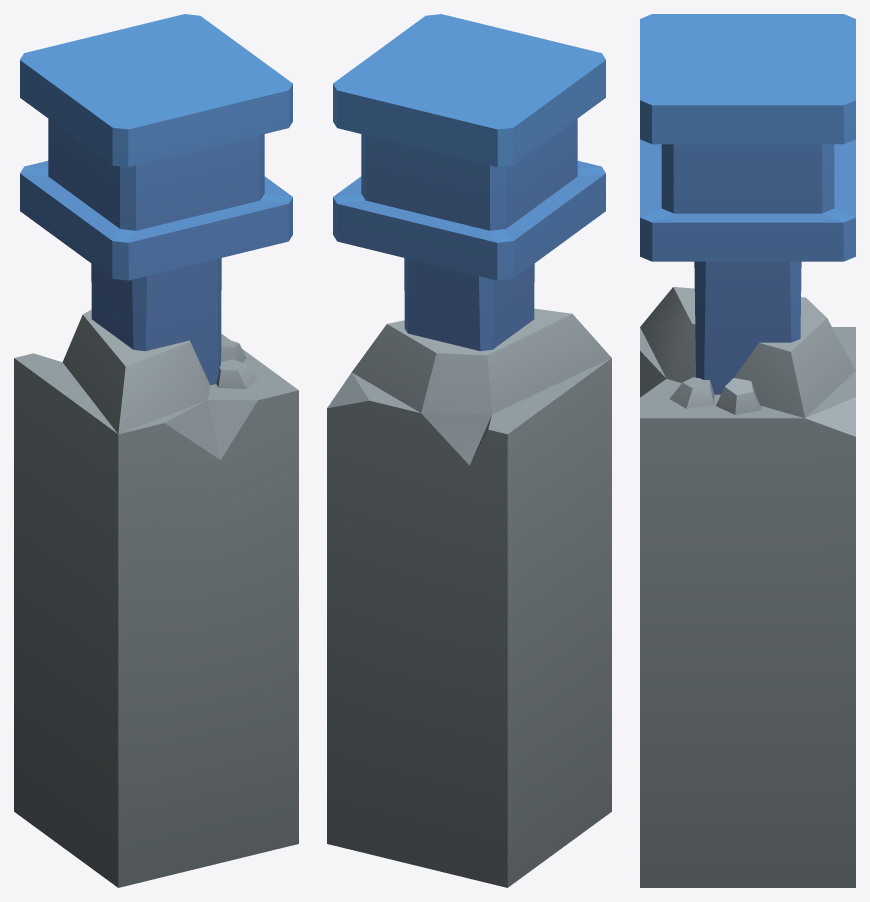
File: corner_B.gltf.glb
The picture shows the model from 3 angles, left to right: view 1: azimuth 30°, elevation 25°; view 2: azimuth 150°, elevation 25°; view 3: azimuth 270°, elevation 25°; orthographic projection. The views are drawn at different scales.
Parts seen in each view (by area): view 1: corner_B; view 2: corner_B; view 3: corner_B.
Part boxes in pixels (box(x1,y1,x2,y2)): corner_B: box(14, 14, 298, 887); corner_B: box(327, 14, 611, 887); corner_B: box(640, 14, 855, 887).
Bounding box in the file's own units: 0.5 × 2 × 0.5.
Materials: 1 (1 with a texture image).
